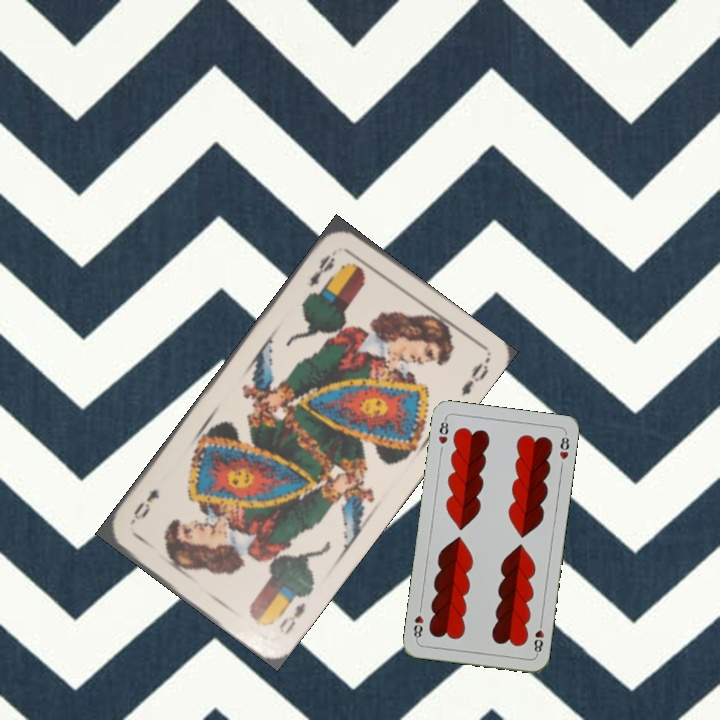EO: (305, 250, 338, 290), (275, 598, 308, 637)
H8: (530, 617, 546, 657), (434, 415, 451, 447)
